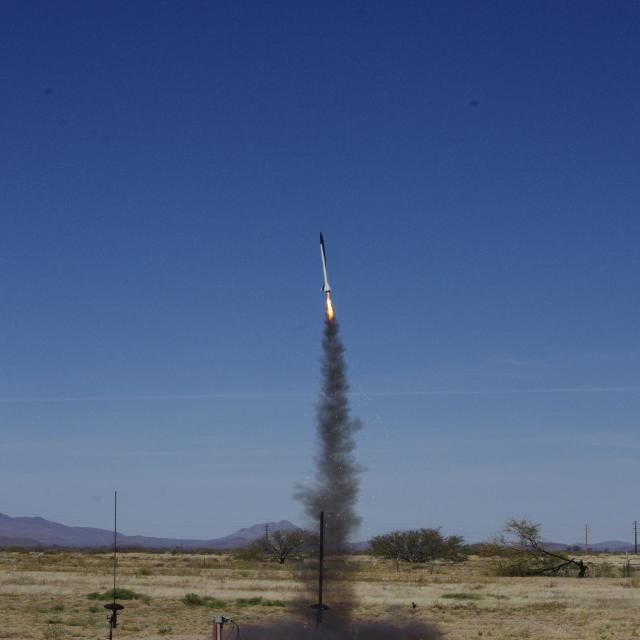Rocket: (319, 232, 332, 294)
